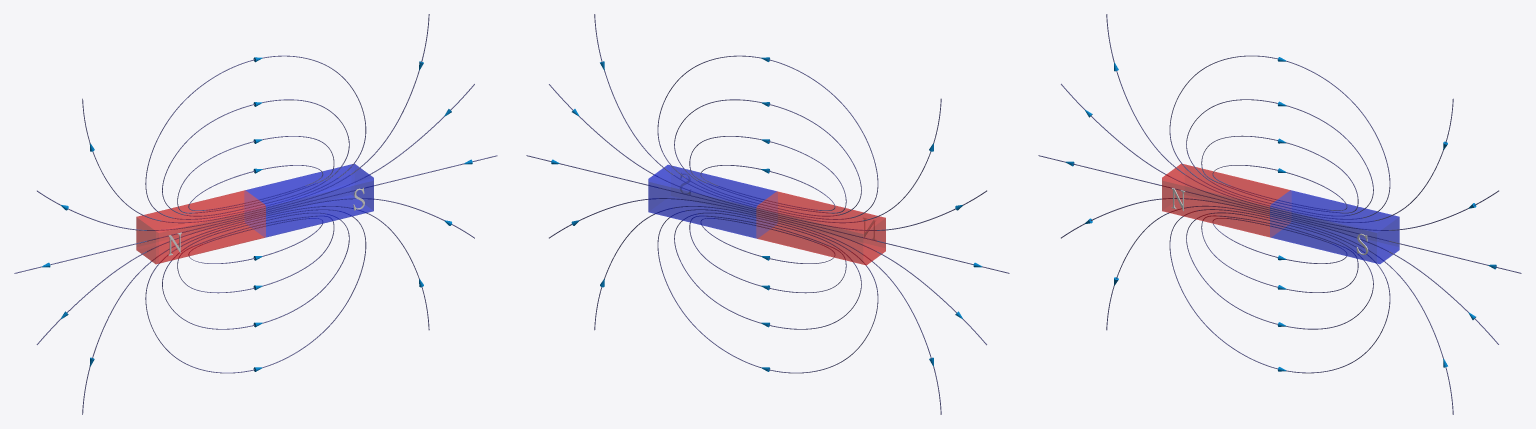
The model's file is ciganx_dantao.fbx.
3 views of the same model, side by side, from view 1: azimuth 30°, elevation 25°; view 2: azimuth 150°, elevation 25°; view 3: azimuth 330°, elevation 25° (orthographic).
Parts seen in each view (by area): view 1: citie2, polySurface5, polySurface6, pCone16; view 2: citie2, polySurface5, polySurface6, pCone16; view 3: citie2, polySurface5, polySurface6, pCone16.
Boxes of the visible parts, left/top/right/bottom form: citie2: left=136, top=163, right=373, bottom=264; polySurface5: left=37, top=14, right=474, bottom=230; polySurface6: left=36, top=198, right=474, bottom=414; pCone16: left=14, top=155, right=497, bottom=273; citie2: left=648, top=164, right=885, bottom=265; polySurface5: left=549, top=14, right=986, bottom=230; polySurface6: left=549, top=198, right=986, bottom=414; pCone16: left=526, top=155, right=1009, bottom=273; citie2: left=1162, top=164, right=1399, bottom=264; polySurface5: left=1061, top=14, right=1498, bottom=230; polySurface6: left=1061, top=198, right=1498, bottom=414; pCone16: left=1038, top=155, right=1521, bottom=273.
Size of the model in its own units: 16 by 10.02 by 1.28.
